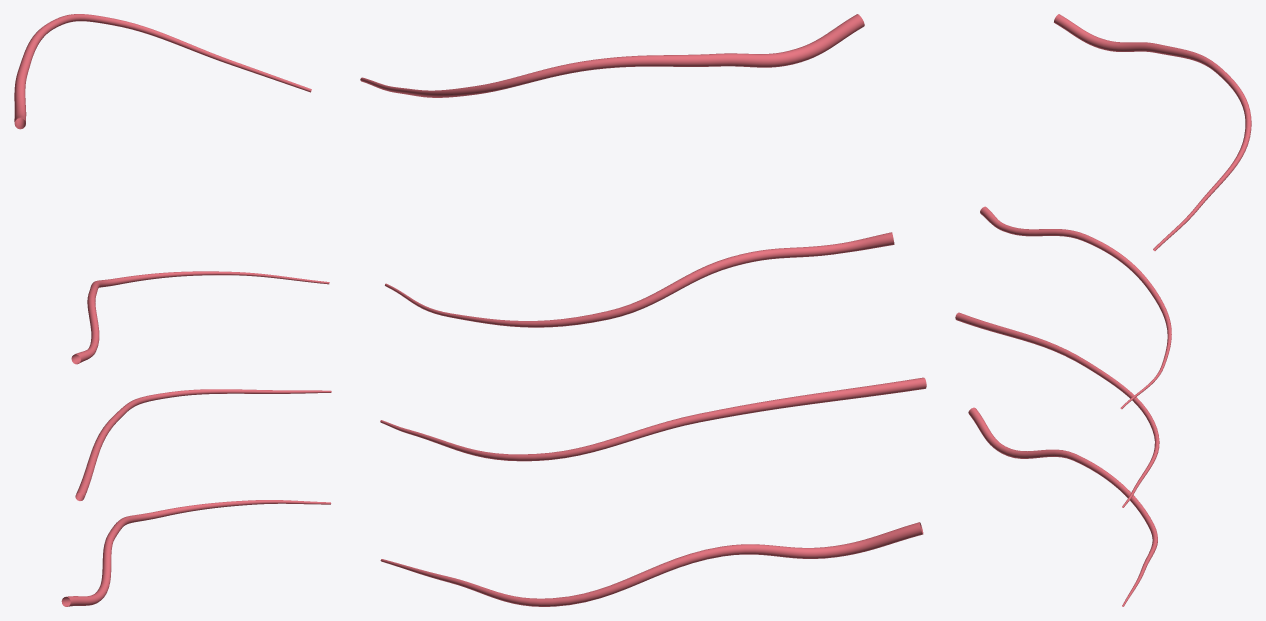
The picture shows the model from 3 angles, left to right: view 1: azimuth 30°, elevation 25°; view 2: azimuth 150°, elevation 25°; view 3: azimuth 270°, elevation 25°; orthographic projection. The views are drawn at different scales.
Visible parts, largest first — view 1: ZA_2aa1a2784a886a41; view 2: ZA_2aa1a2784a886a41; view 3: ZA_2aa1a2784a886a41.
Boxes of the visible parts, bbox=[...] form: ZA_2aa1a2784a886a41: bbox=[14, 14, 331, 606]; ZA_2aa1a2784a886a41: bbox=[360, 14, 926, 606]; ZA_2aa1a2784a886a41: bbox=[955, 14, 1251, 606].
Bounding box in the file's own units: 0.0705 × 0.0953 × 0.0577.
